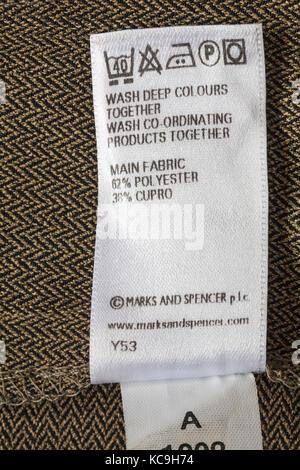40C: (101, 44, 138, 89)
DN_bleach: (136, 42, 163, 77)
dry_clean_any_solvent_except_trichloroethylene: (197, 39, 222, 68)
iron_medium: (165, 37, 197, 73)
tumble_dry_normal: (222, 38, 248, 67)
